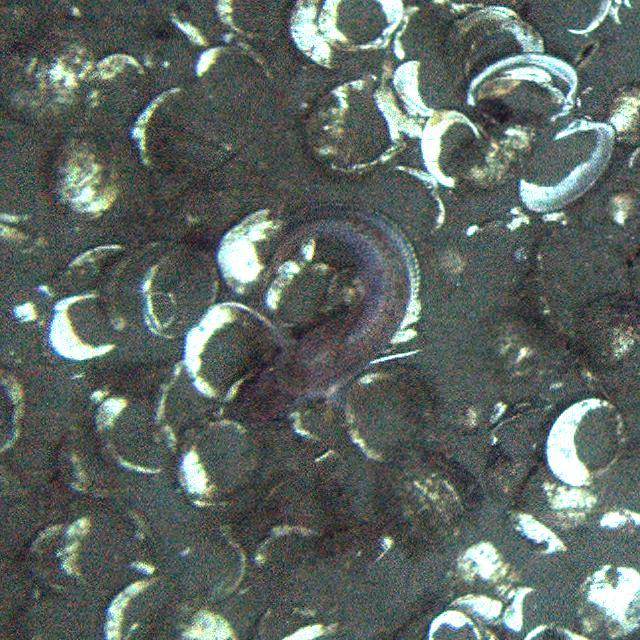roundfish: (250, 208, 420, 435)
